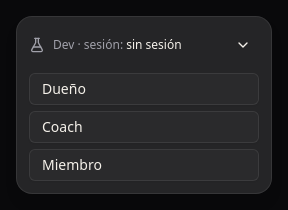
Scenario: DevRoleSwitcher - opciones › colapsar escribe dev_role_switcher_collapsed y oculta las opciones
Step 1. Click the button named "colapsar selector" → (243, 45), box [227,29,259,61]
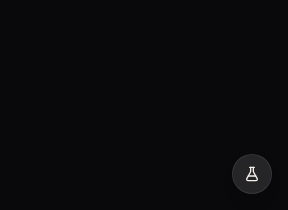
expect the button "Dueño" is gone: met
